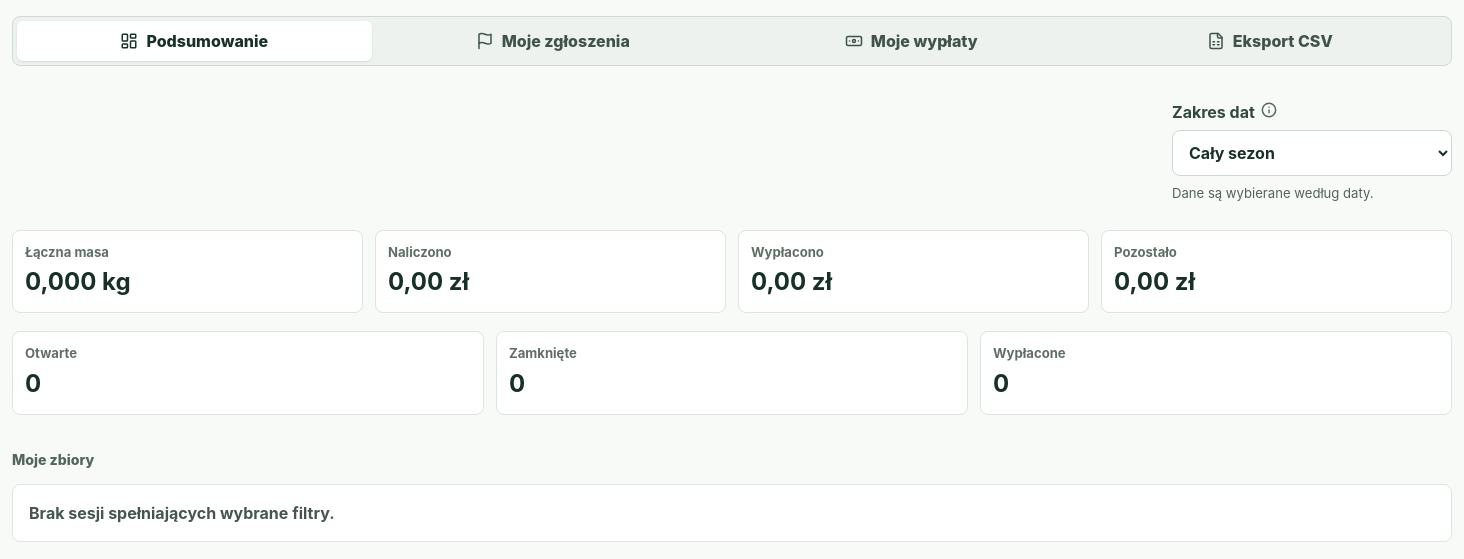
PickerWorkspacePanel › loads the summary together with the picker harvest history
The width and height of the screenshot is (1464, 559).
expect the text "Brak sesji spełniających wybrane filtry." is shown: met, box x1=12 y1=484 x2=1452 y2=542
Click the tab "Moje wypłaty". click: (911, 41)
box: x1=734 y1=21 x2=1088 y2=61
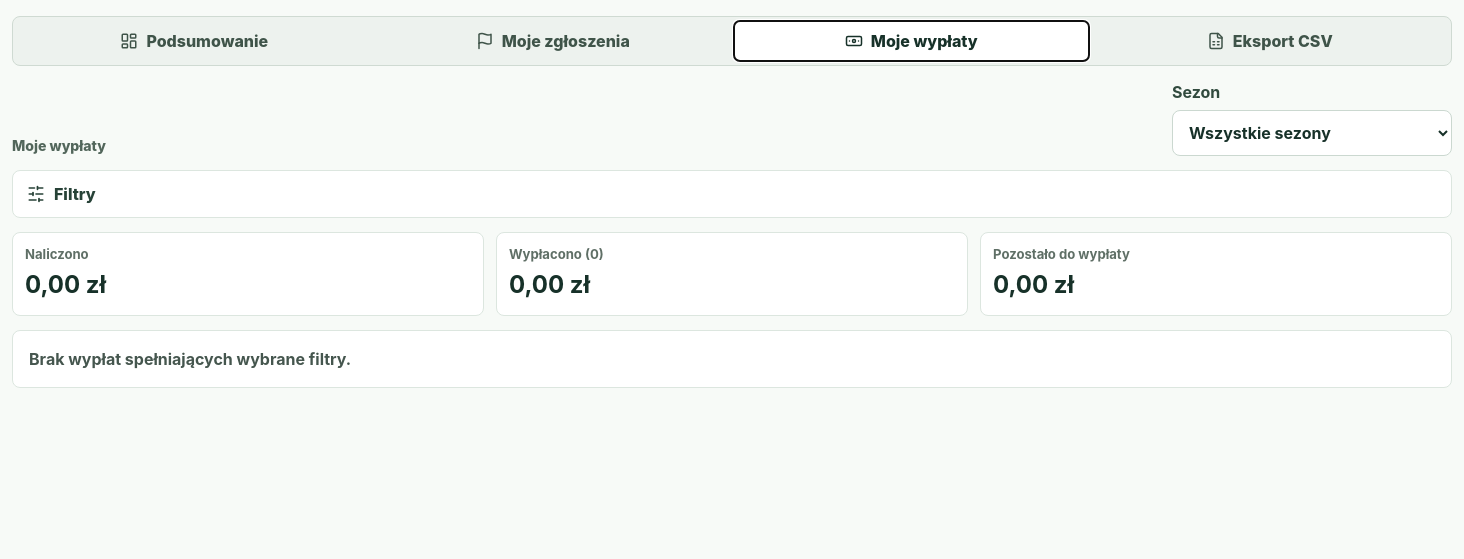
expect the text "Brak wypłat spełniających wybrane filtry." is shown: met, box x1=12 y1=330 x2=1452 y2=388
Click the tab "Moje zgłoszenia". click: (553, 41)
box: x1=376 y1=21 x2=730 y2=61
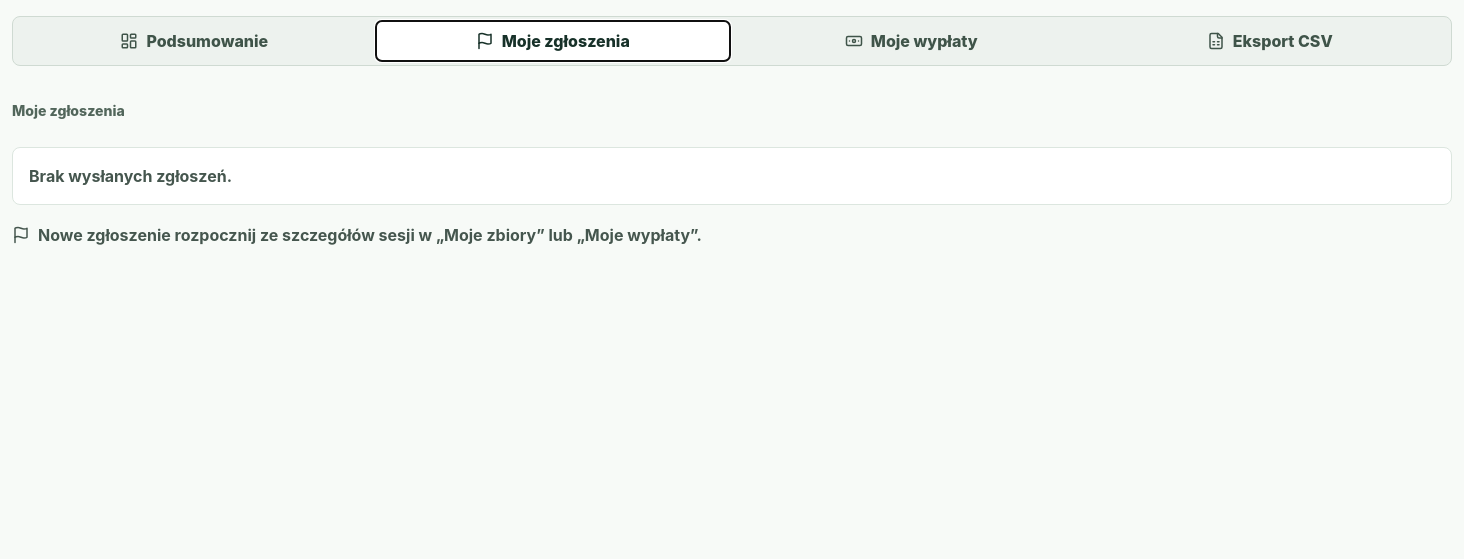
expect the text "Brak wysłanych zgłoszeń." is shown: met, box x1=12 y1=147 x2=1452 y2=205
Click the tab "Eksport CSV". click: (1270, 41)
box: x1=1092 y1=21 x2=1447 y2=61
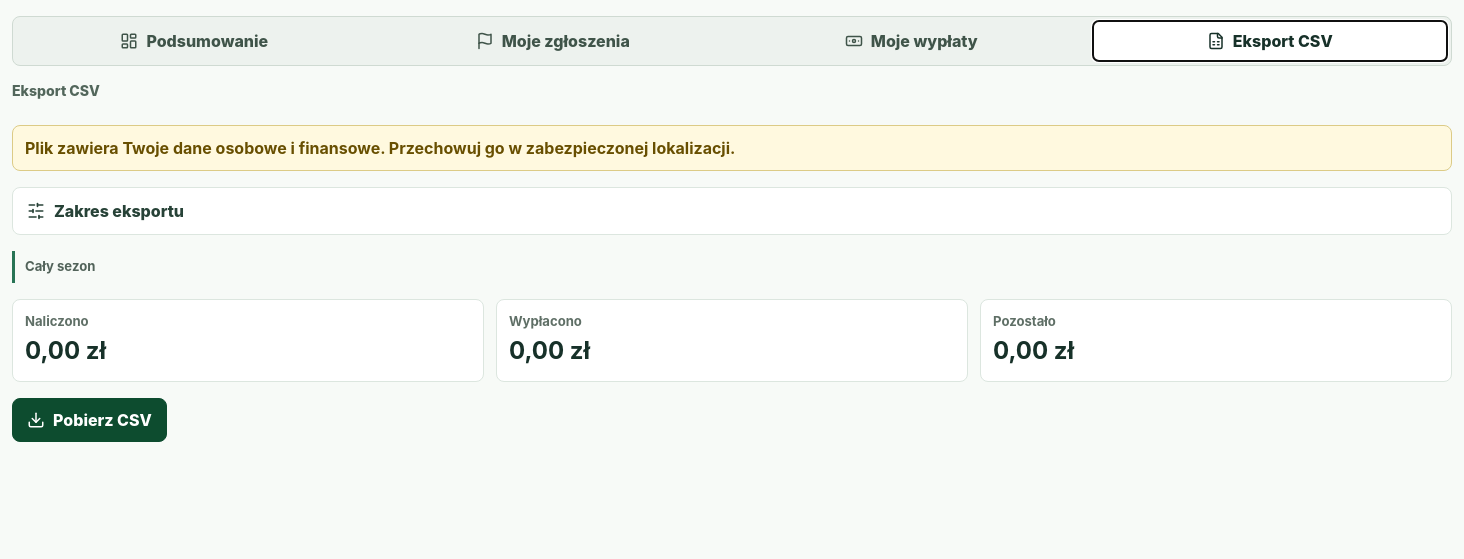
expect the heading "Eksport CSV" is shown: met, box x1=12 y1=80 x2=100 y2=101
